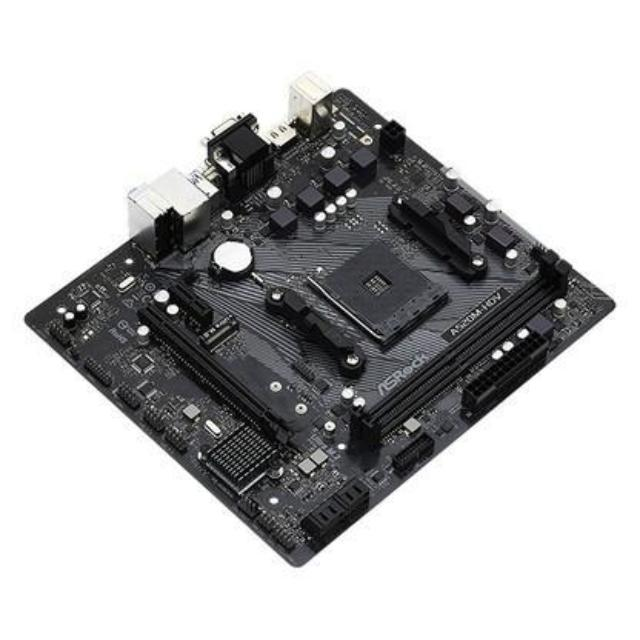Mainboard: (19, 76, 621, 570)
